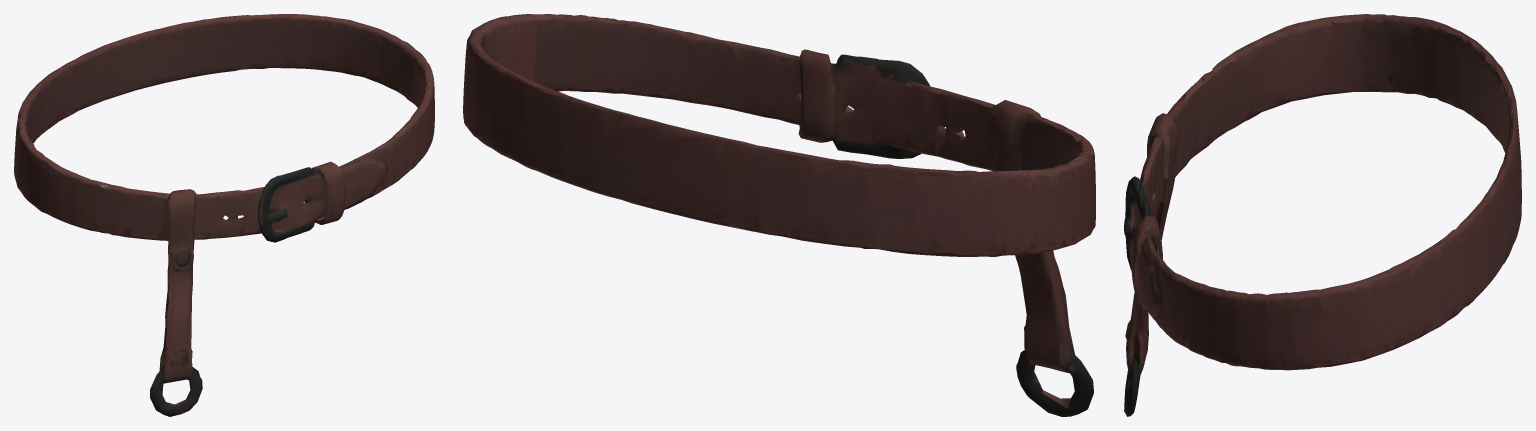
Rendered from warrior_f_belt.glb.
3 renders of one model, left to right at view 1: azimuth 30°, elevation 25°; view 2: azimuth 150°, elevation 25°; view 3: azimuth 270°, elevation 25°, orthographic. The views are drawn at different scales.
Visible parts, largest first — view 1: world; view 2: world; view 3: world.
Boxes of the visible parts, box(x1,y1,x2,y2) form: world: box(14, 14, 434, 416); world: box(463, 14, 1095, 416); world: box(1124, 14, 1521, 416).
Size of the model in its own units: 0.43 by 0.27 by 0.26.
1 material, 1 textured.
